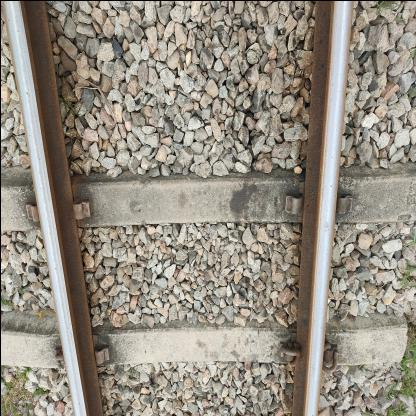Defective 1: (68, 174, 94, 230), (278, 178, 310, 221), (330, 180, 360, 224), (86, 332, 112, 375), (18, 190, 42, 226)
Non Defective 1: (312, 327, 354, 379)
